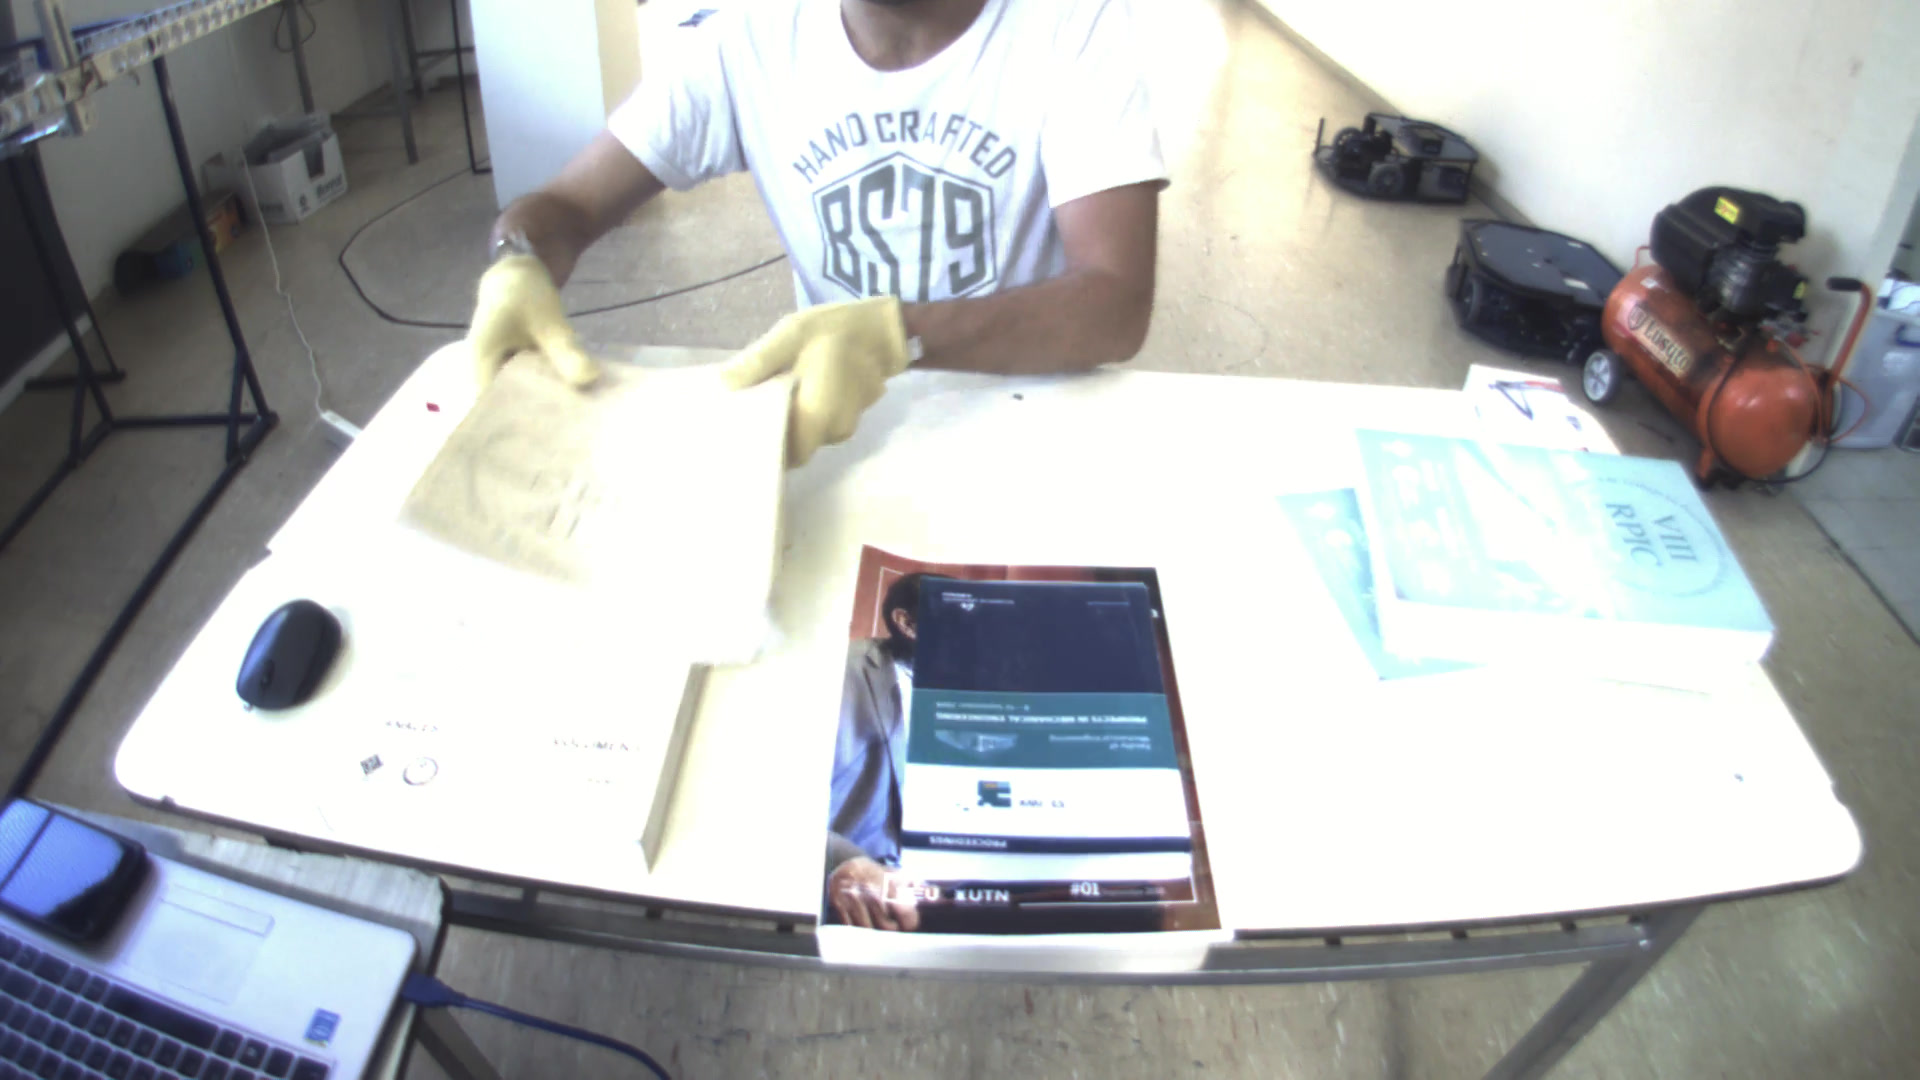hand: (715, 280, 919, 463), (404, 247, 609, 417)
